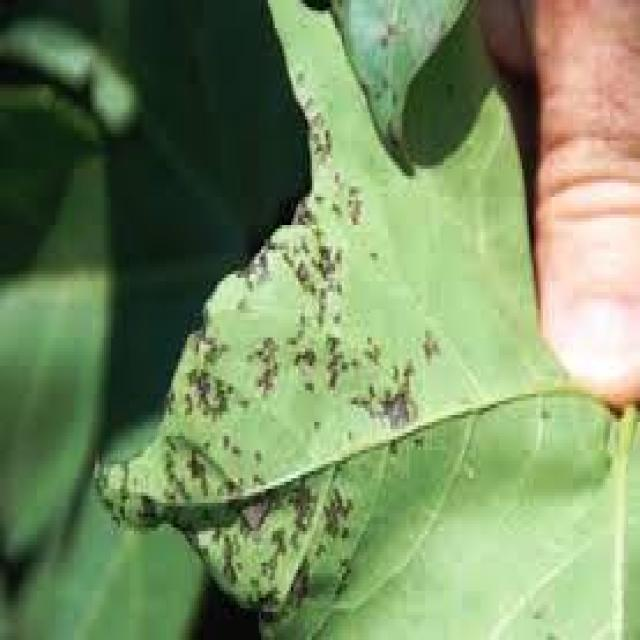Bacterial Blight: (183, 286, 382, 571)
